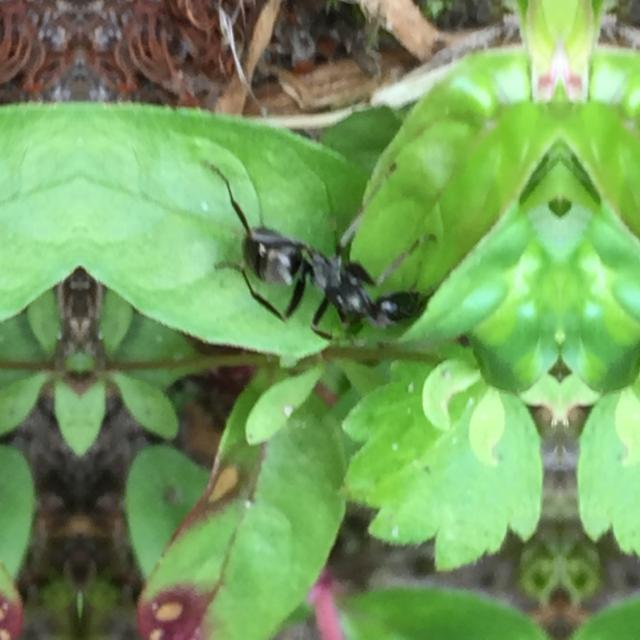Formica: (240, 172, 440, 370)
